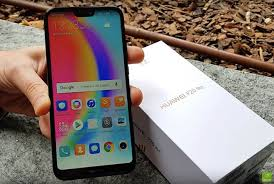huawei: (34, 5, 139, 179)
